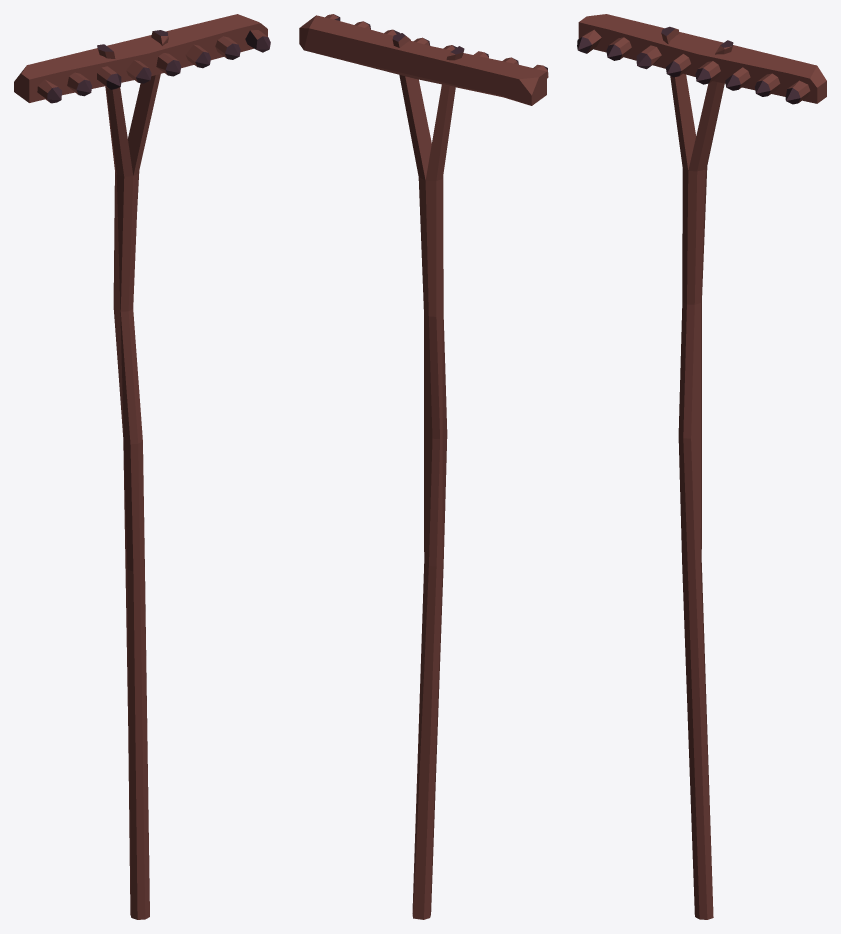
The model's file is Rake.fbx.
3 views of the same model, side by side, from view 1: azimuth 30°, elevation 25°; view 2: azimuth 150°, elevation 25°; view 3: azimuth 330°, elevation 25° (orthographic).
Parts seen in each view (by area): view 1: Rake; view 2: Rake; view 3: Rake.
Part boxes in pixels (bbox=[...]): Rake: bbox=[14, 14, 270, 919]; Rake: bbox=[299, 14, 548, 919]; Rake: bbox=[577, 14, 826, 919].
Size of the model in its own units: 48.1 by 169 by 11.08.
